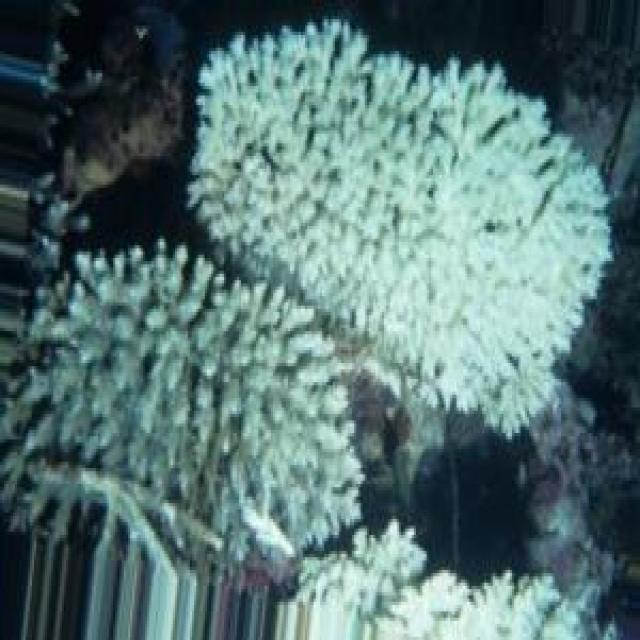bleached coral: (512, 261, 595, 414), (75, 248, 226, 325), (53, 322, 145, 439), (348, 57, 482, 137), (403, 328, 527, 411), (267, 366, 350, 474), (267, 201, 369, 287), (81, 474, 183, 560), (450, 156, 561, 223), (390, 197, 476, 277), (354, 522, 429, 605), (190, 369, 245, 478), (205, 89, 288, 159), (512, 462, 546, 576), (439, 583, 480, 624), (318, 80, 329, 102)
